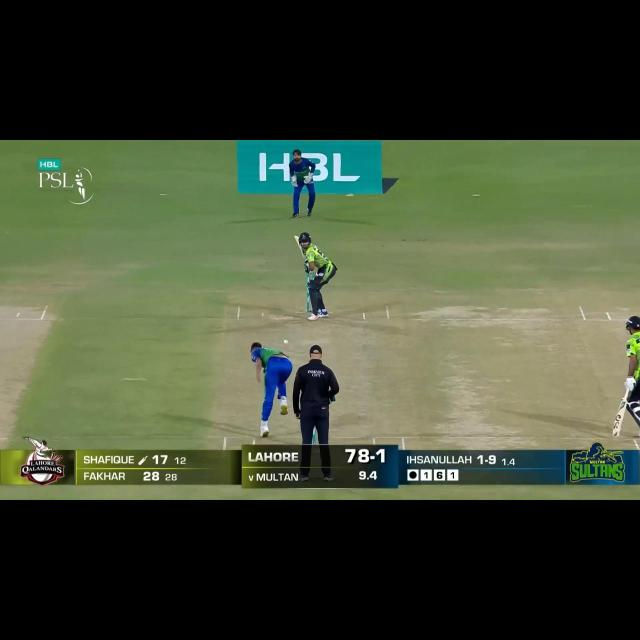bat: (610, 399, 628, 437), (293, 235, 310, 261)
toe: (611, 428, 620, 437), (294, 235, 301, 244)
